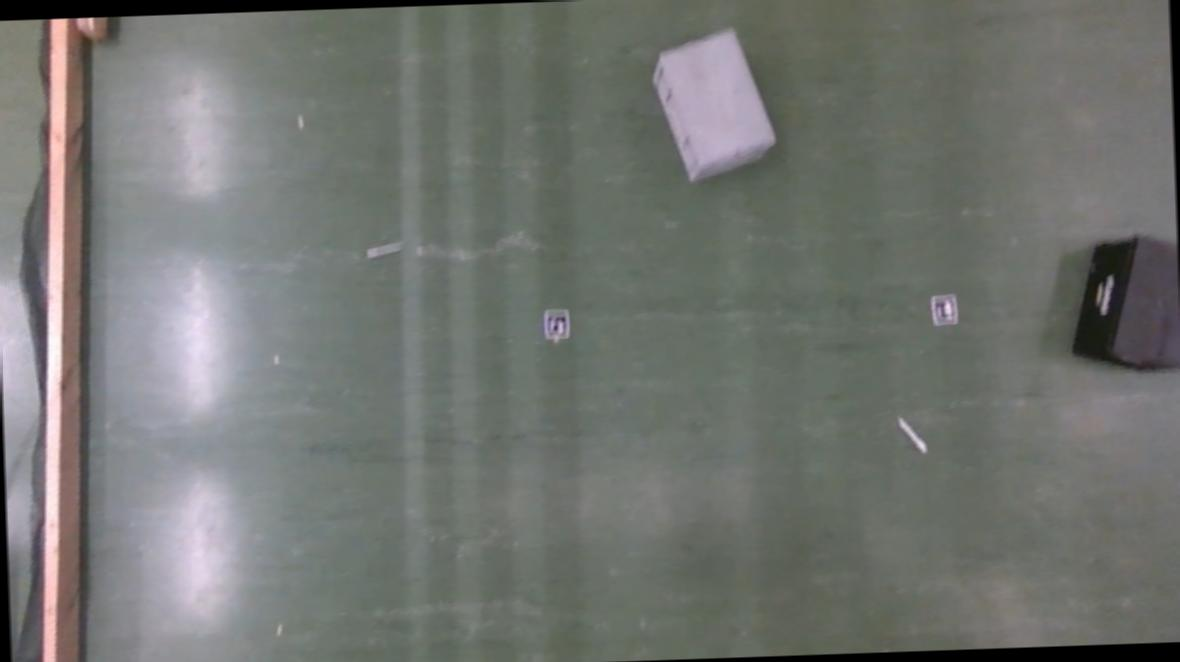probes: (898, 414, 928, 454), (366, 240, 403, 260)
rako: (646, 25, 780, 185), (1066, 233, 1180, 375)
